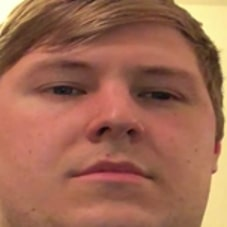drowsy: (22, 52, 203, 194)
